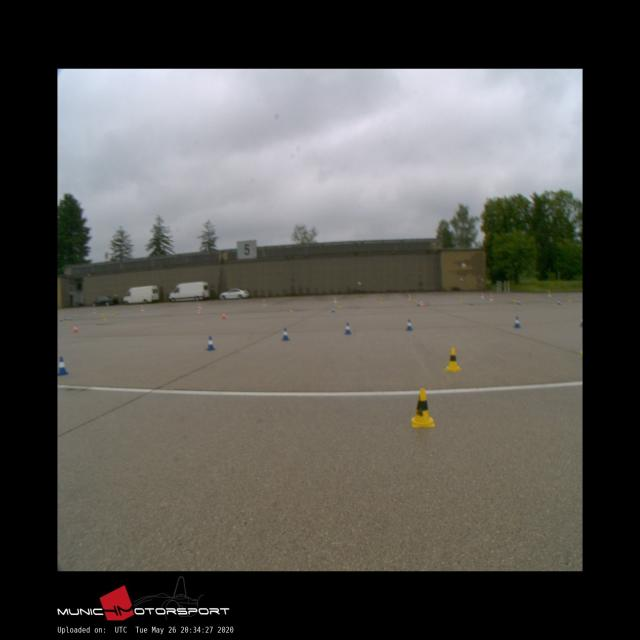blue_cone: (58, 356, 68, 376), (207, 336, 214, 349), (405, 318, 412, 331), (282, 328, 289, 340), (344, 322, 351, 334), (514, 317, 520, 328)
yellow_cone: (411, 388, 434, 426), (446, 347, 460, 370)
